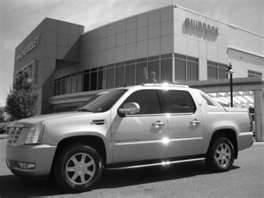car: (6, 87, 256, 194)
